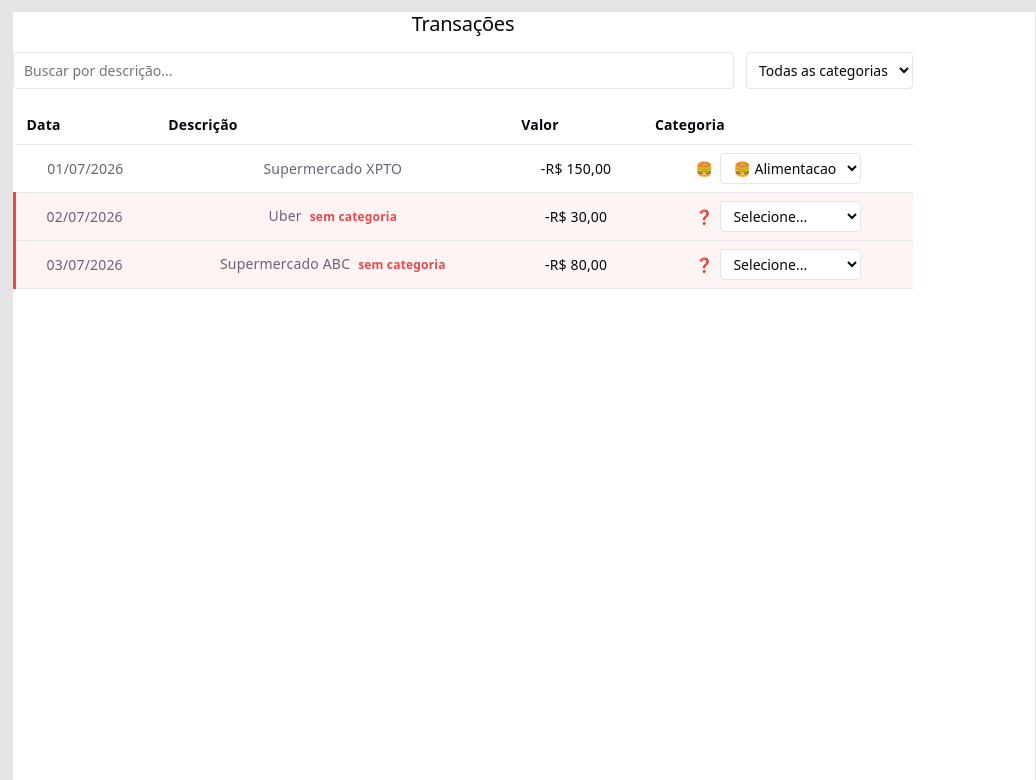
Test: TransactionsPage › filtro "Sem categoria" mostra so as transacoes sem categoria
Expected: the text "Supermercado XPTO" is shown, [156,144,509,192]
Select "❓ Sem categoria" in the 1st dropdown: (830, 70) [746,52,913,89]
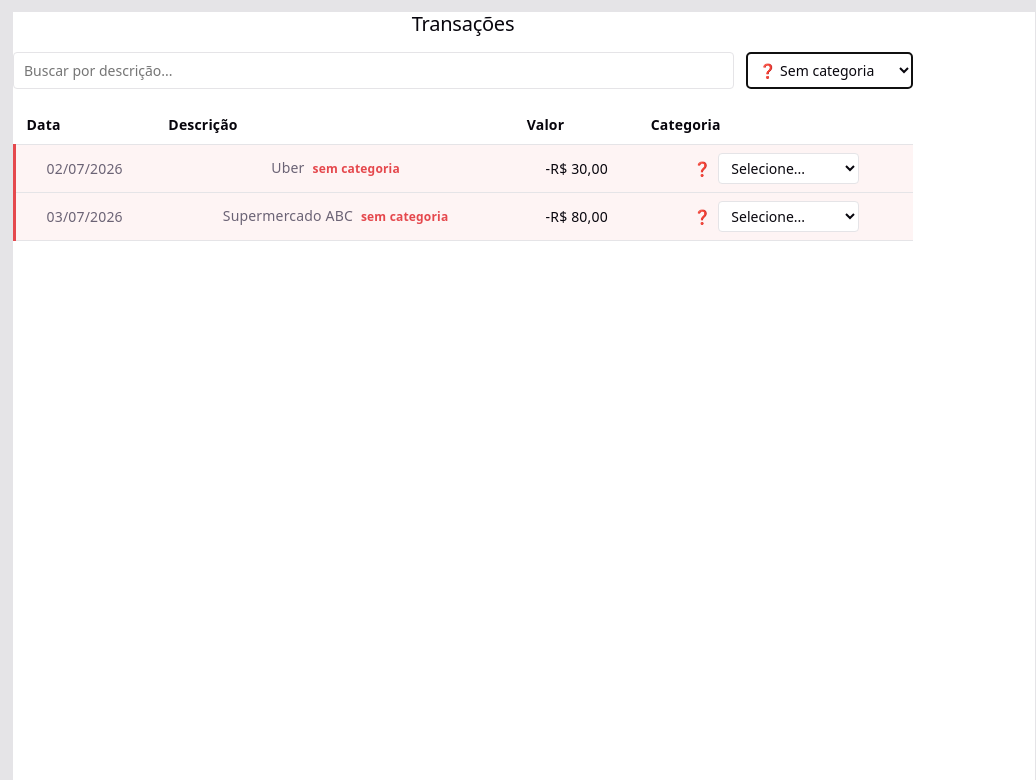
Expected: the text "Uber" is shown, [271,158,304,177]
Expected: the text "Supermercado XPTO" is gone
